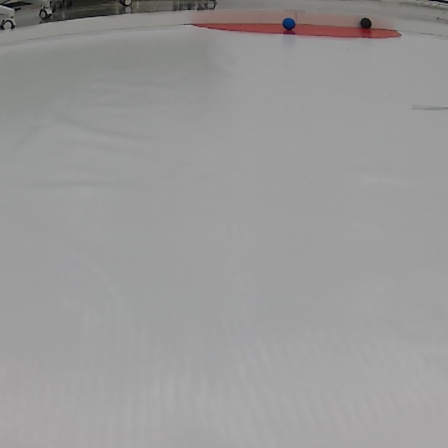black: (360, 17, 372, 29)
blue: (282, 17, 295, 31)
red_base: (192, 19, 406, 39)
